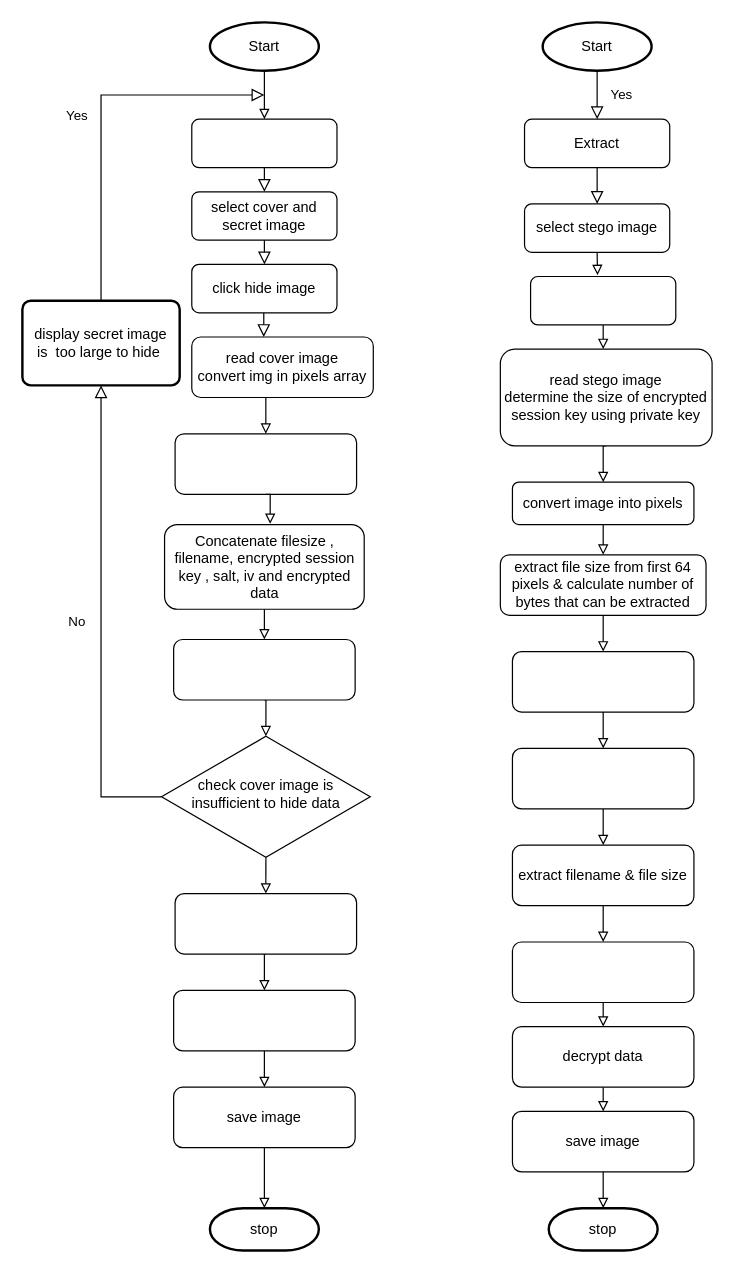
Some shapes in this 733 by 1272 pixel diagram are drawn without their labels. The shapes that lost their labels are listed below. From the top down, each one's centre as x and y in pixels, then its label:
At point 264,143: "Embed".
At point 602,300: "click extract image".
At point 265,463: "compress secret img & encrypt compressed image".
At point 263,669: "calculate number of pixels required".
At point 602,681: "create list to store extracted data".
At point 602,778: "extract data using lsb".
At point 265,923: "embed file size of concatenated data in first 64 pixels".
At point 602,971: "extract encrypted session key , salt, iv, encrypted data".
At point 263,1020: "embed rest of data using lsb".
